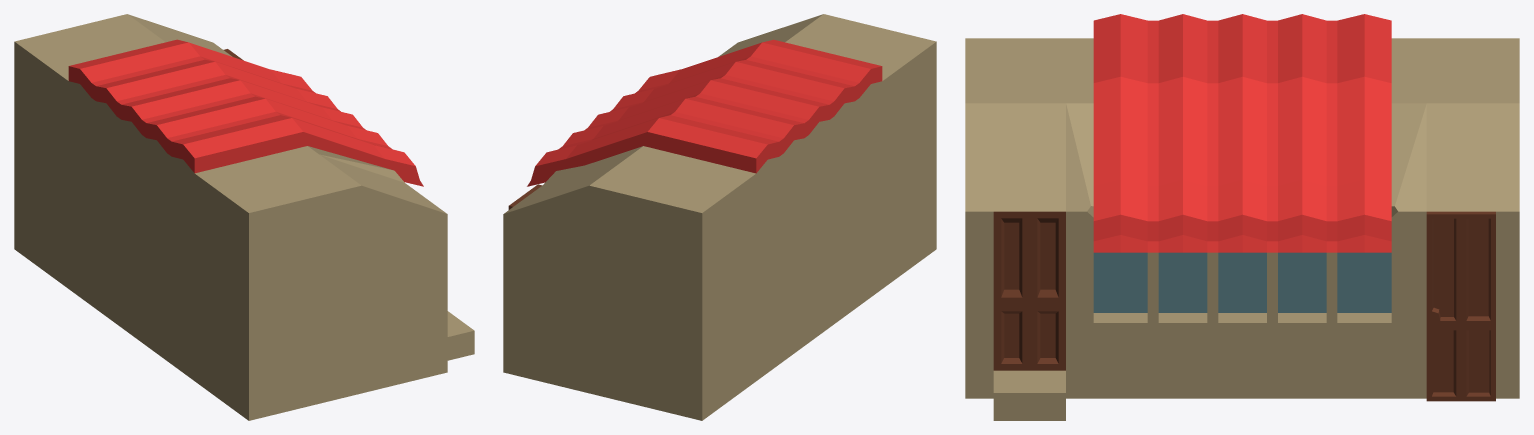
The model's file is Store3a.fbx.
3 renders of one model, left to right at view 1: azimuth 30°, elevation 25°; view 2: azimuth 150°, elevation 25°; view 3: azimuth 270°, elevation 25°, orthographic. The views are drawn at different scales.
Visible parts, largest first — view 1: Store3a; view 2: Store3a; view 3: Store3a.
Part boxes in pixels (box(x1,y1,x2,y2)): Store3a: box(14, 14, 474, 420); Store3a: box(503, 14, 936, 420); Store3a: box(965, 14, 1519, 420).
Size of the model in its own units: 239 by 220 by 409.
